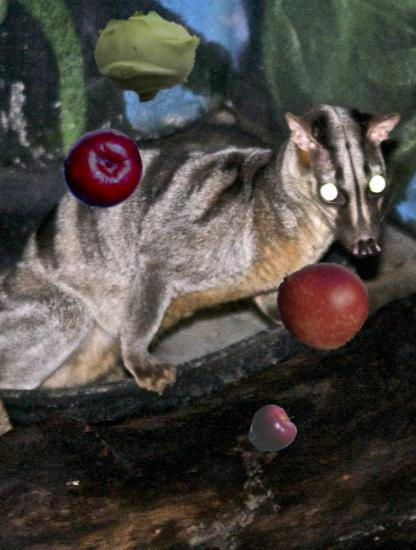Apple: (247, 404, 298, 455)
Kohlrabi: (93, 1, 203, 111)
Nectarine: (276, 258, 368, 350)
Plum: (62, 127, 146, 211)
